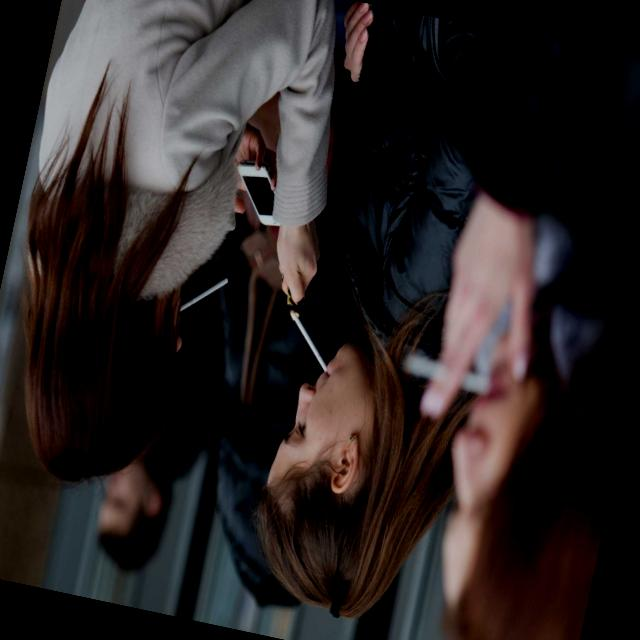cigarette: (400, 343, 498, 402), (272, 304, 344, 378), (175, 264, 232, 323)
